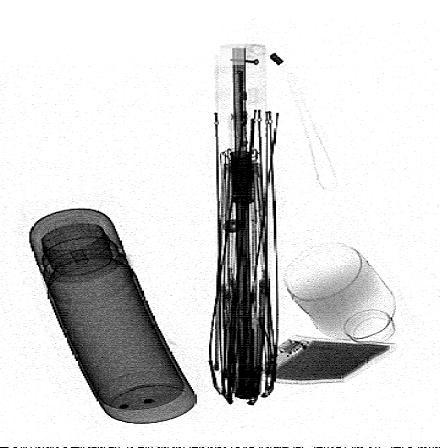Powerbank: (255, 334, 398, 386)
